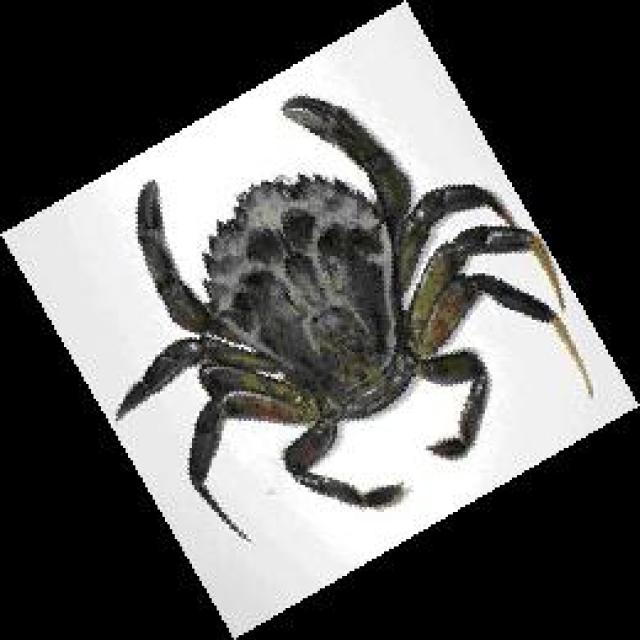European Green crab: (116, 96, 591, 537)
